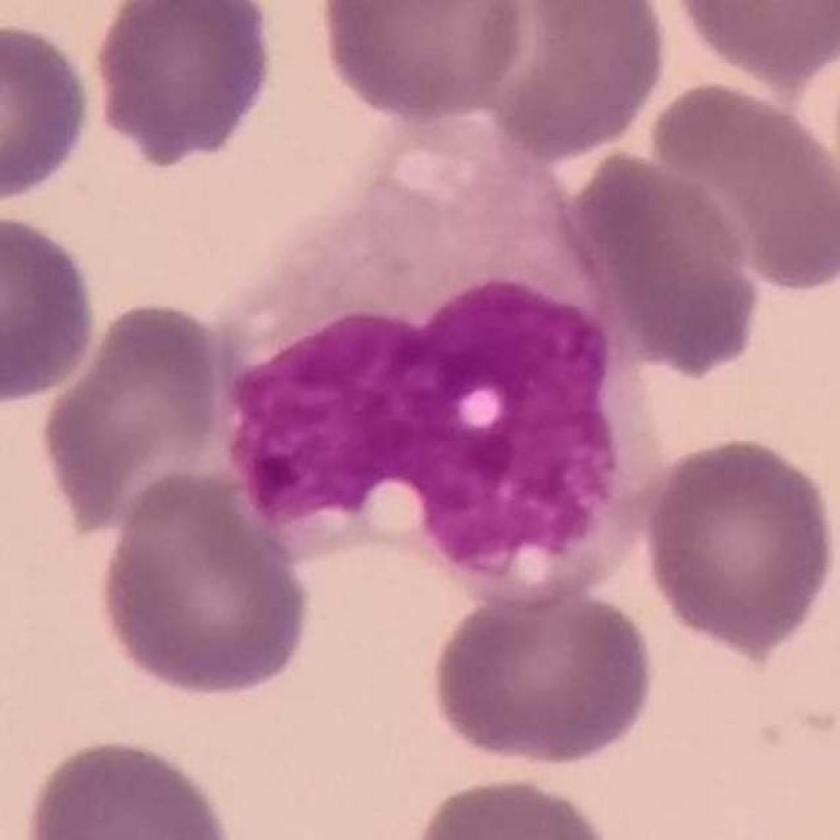monocyte: (212, 102, 669, 617)
